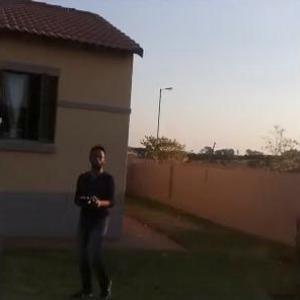follow: (64, 141, 118, 299)
